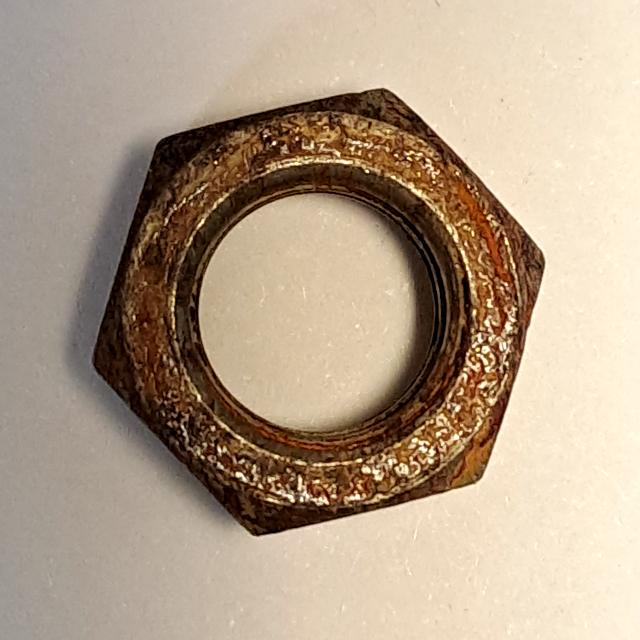Rust: (79, 79, 555, 551)
